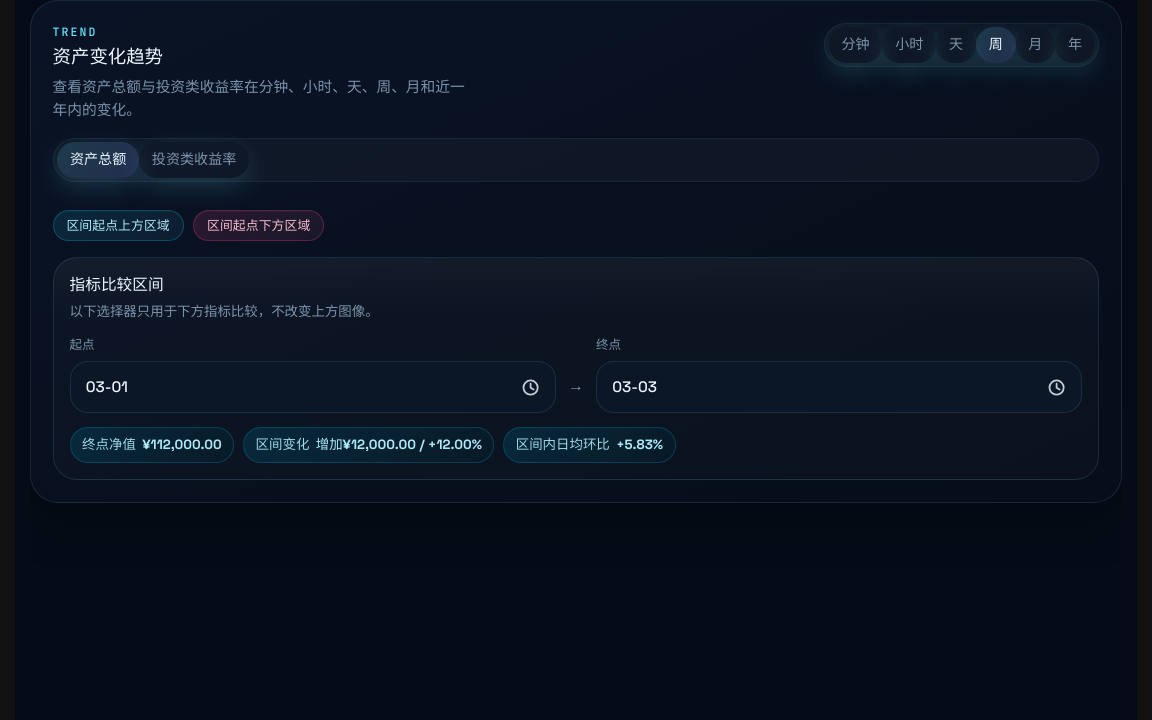
it: analytics charts responsive layout › switches the portfolio trend card between total value and aggregate return
What coordinates should you click on to do the following:
click the button "投资类收益率"
I would click on:
 (194, 160)
Its box is [139, 142, 249, 178].
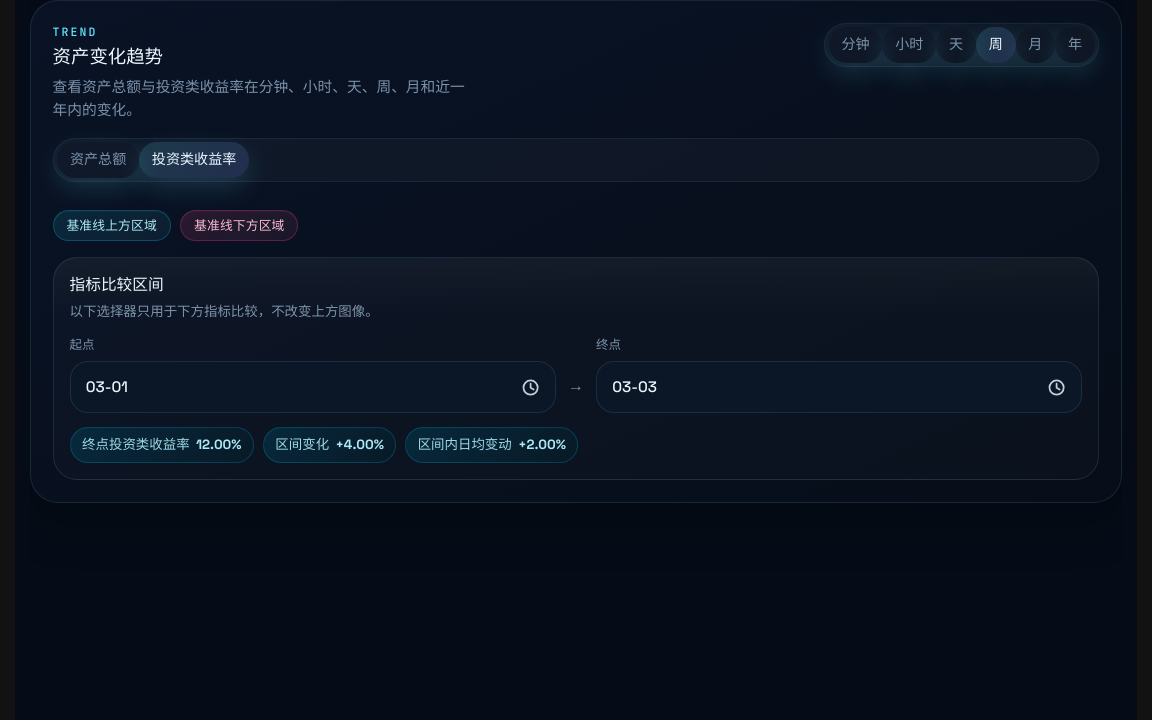
Check: the list item "基准线上方区域" is shown, box [53, 210, 171, 241]
Check: the text "终点投资类收益率" is shown, box [82, 435, 190, 455]
Check: the text "+2.00%" is shown, box [518, 435, 566, 455]
